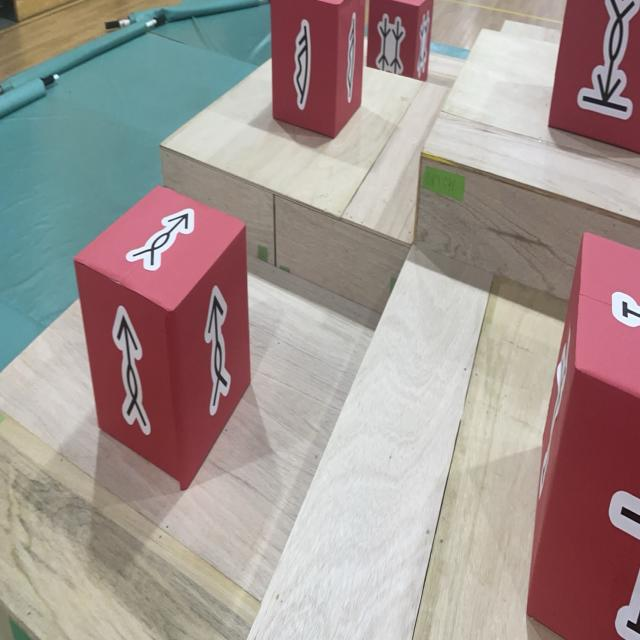11: (294, 19, 311, 111), (347, 11, 356, 103)
12: (112, 306, 152, 436), (126, 206, 195, 271), (204, 284, 232, 416)
6: (376, 13, 406, 75)
7: (577, 0, 640, 120)
9: (608, 489, 640, 640), (612, 290, 640, 328)
fighter: (73, 185, 251, 491), (526, 232, 640, 640), (547, 0, 640, 154), (270, 0, 366, 140), (367, 0, 433, 81)
